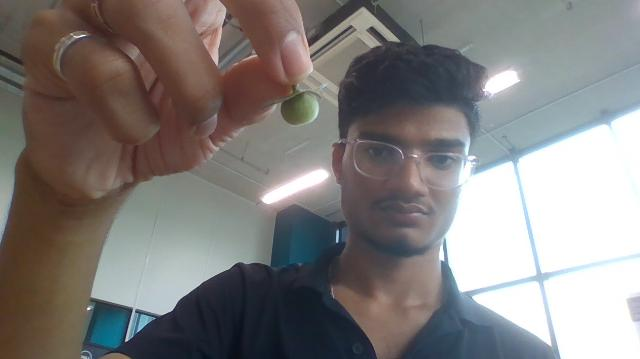Fruit Maturation: (281, 89, 319, 127)
